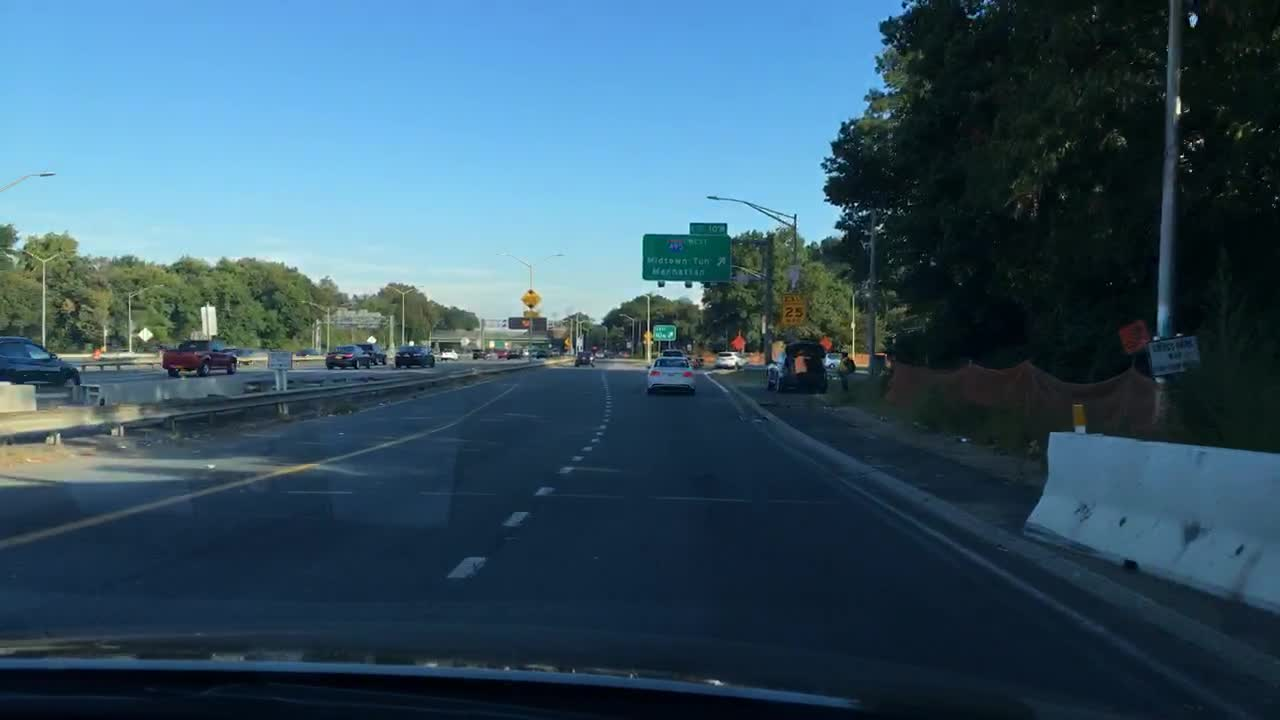car: (0, 335, 81, 394), (762, 336, 822, 392), (645, 357, 698, 396), (324, 343, 372, 370), (390, 345, 436, 369), (356, 342, 389, 366), (713, 348, 744, 370), (821, 350, 842, 369), (573, 350, 595, 367), (471, 346, 490, 363), (294, 347, 319, 359), (232, 348, 256, 359), (659, 347, 684, 357), (440, 349, 459, 361), (593, 347, 610, 357), (507, 347, 523, 357), (523, 348, 538, 358), (537, 348, 550, 359), (496, 348, 507, 360), (551, 348, 563, 358)
person: (835, 348, 857, 397)
traffic light: (683, 278, 693, 289), (654, 278, 665, 288)
traffic sign: (642, 233, 733, 280), (1151, 337, 1202, 375), (1120, 316, 1151, 355), (781, 292, 805, 325), (199, 304, 218, 335), (688, 220, 729, 234), (520, 289, 542, 308), (785, 262, 798, 289), (729, 334, 746, 348), (139, 327, 154, 341), (642, 330, 653, 343), (456, 337, 469, 345)
truck: (159, 338, 234, 375), (857, 353, 881, 370)
